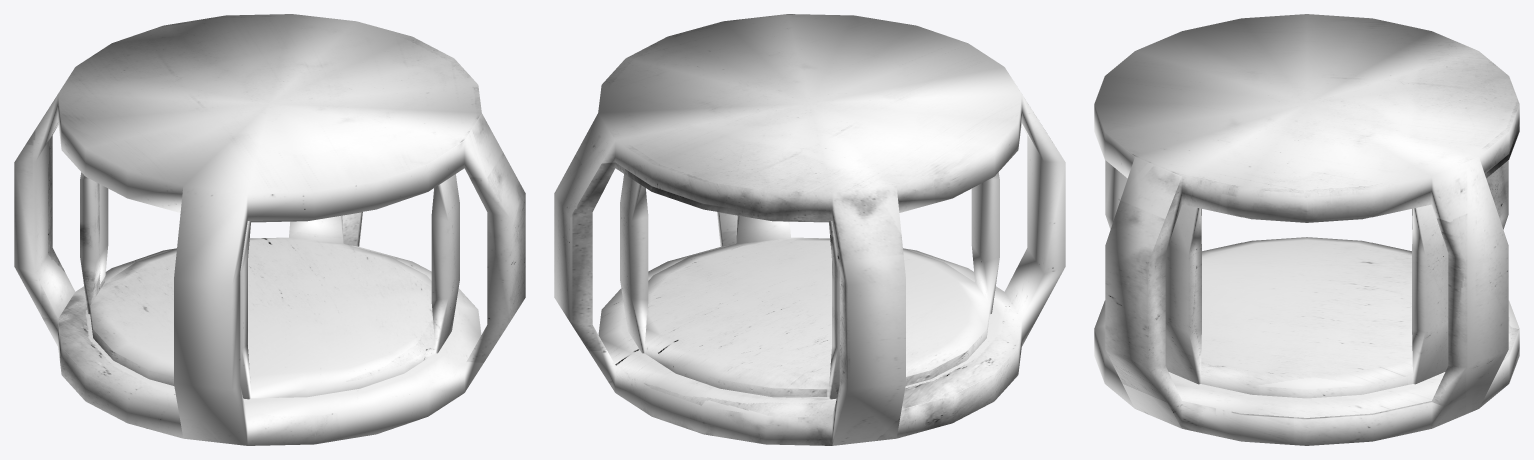
File: jail_no_glass.fbx
The picture shows the model from 3 angles, left to right: view 1: azimuth 30°, elevation 25°; view 2: azimuth 150°, elevation 25°; view 3: azimuth 270°, elevation 25°; orthographic projection.
Visible parts, largest first — view 1: Frame, Frame1; view 2: Frame, Frame1; view 3: Frame, Frame1.
Boxes of the visible parts, x1,y1,x2,y2 form: Frame: (14, 14, 525, 445); Frame1: (80, 172, 459, 399); Frame: (554, 14, 1065, 445); Frame1: (620, 172, 999, 399); Frame: (1094, 14, 1519, 445); Frame1: (1165, 204, 1448, 398).
Size of the model in its own units: 500 by 327 by 500.
Materials: 1 (1 with a texture image).
